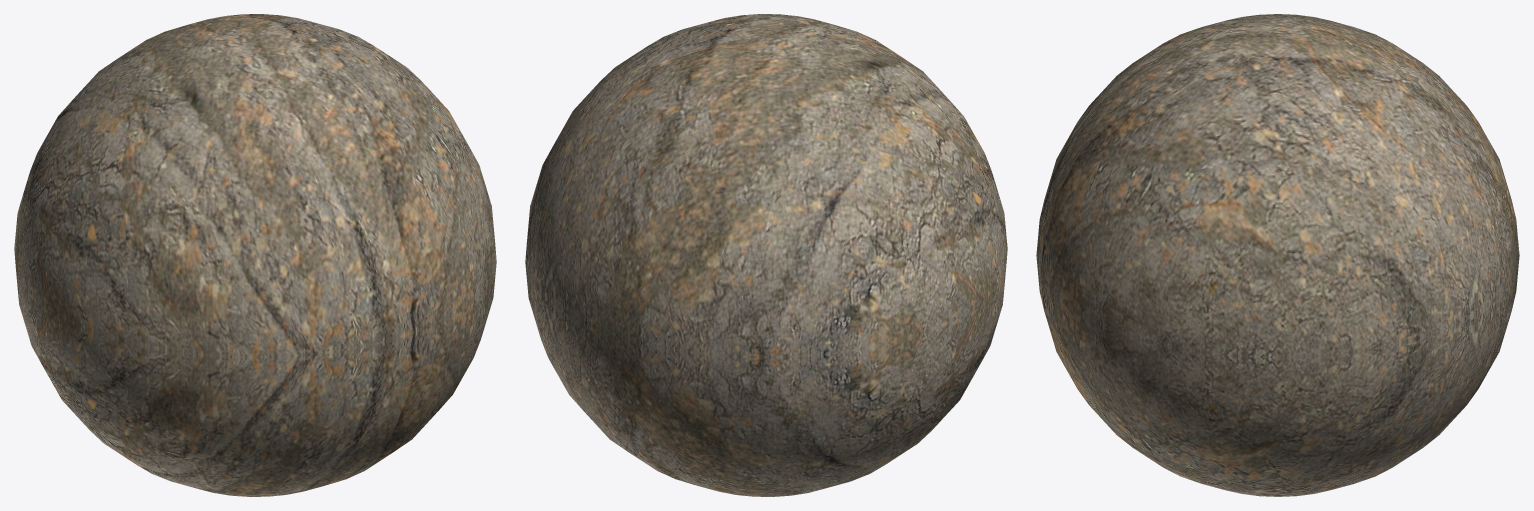
Rendered from Earth_planet_3.FBX.
3 views of the same model, side by side, from view 1: azimuth 30°, elevation 25°; view 2: azimuth 150°, elevation 25°; view 3: azimuth 270°, elevation 25° (orthographic).
Parts seen in each view (by area): view 1: earth_planet _3; view 2: earth_planet _3; view 3: earth_planet _3.
Boxes of the visible parts, <box> form: earth_planet _3: <box>14,14,496,496</box>; earth_planet _3: <box>525,14,1007,496</box>; earth_planet _3: <box>1036,14,1519,496</box>.
Bounding box in the file's own units: 69.73 × 69.73 × 69.73.
